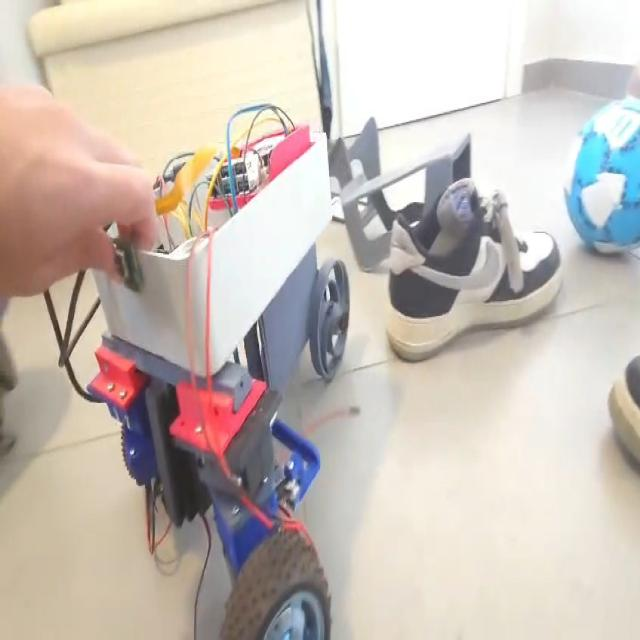Robot: (86, 119, 348, 640)
